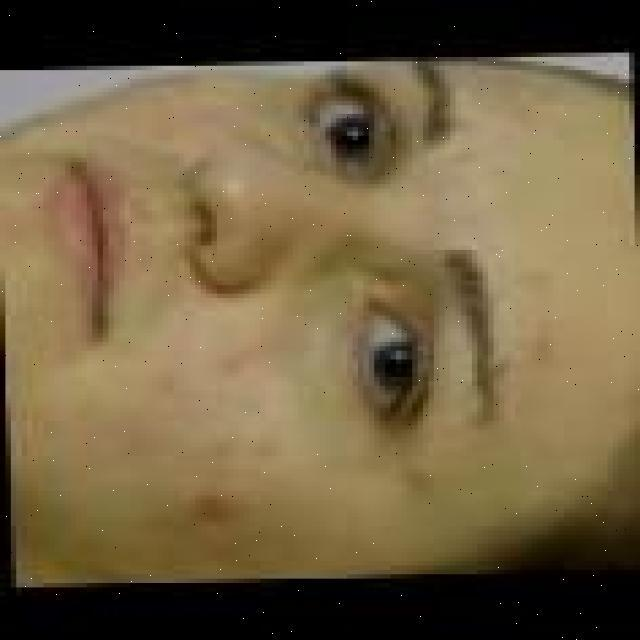Acne: (183, 476, 244, 528)
